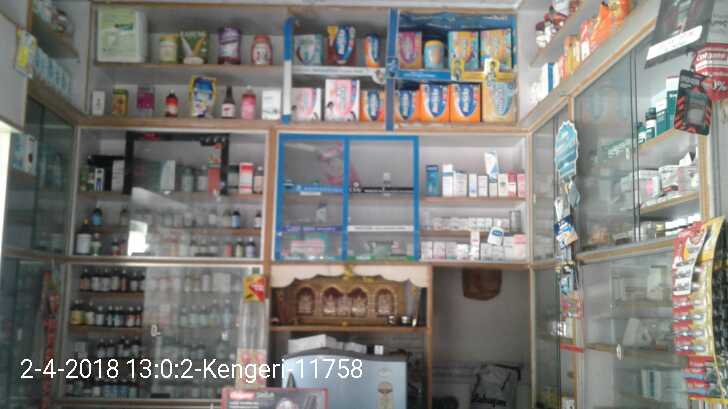oralcare: (676, 226, 728, 391)
